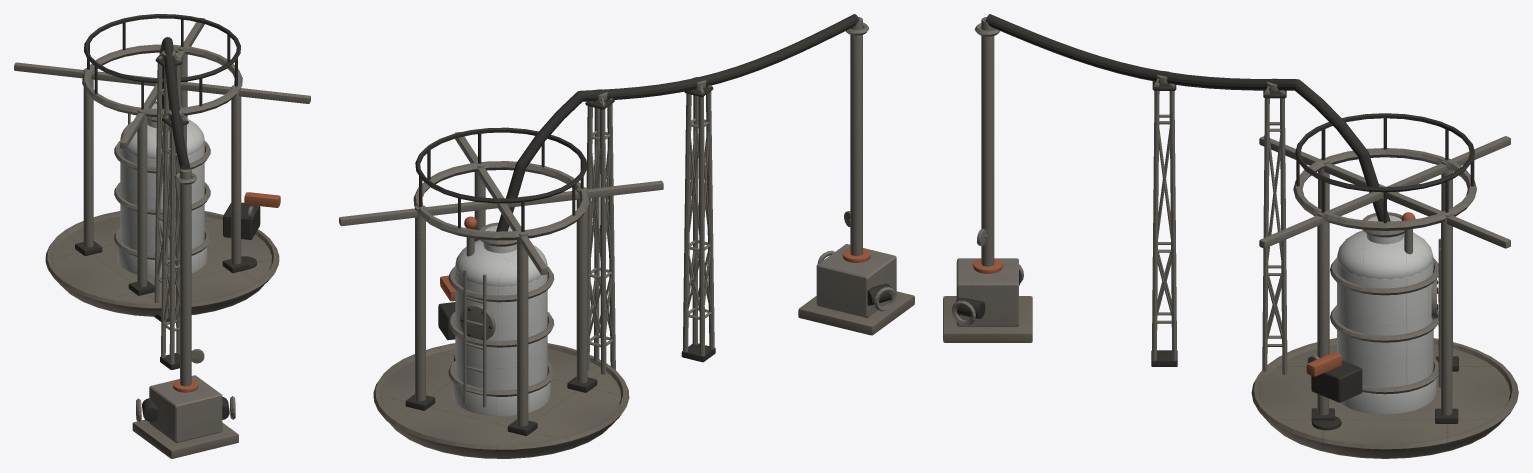
Rendered from lox_stand.glb.
3 renders of one model, left to right at view 1: azimuth 30°, elevation 25°; view 2: azimuth 150°, elevation 25°; view 3: azimuth 270°, elevation 25°, orthographic. The views are drawn at different scales.
Visible parts, largest first — view 1: bund, shell, mana_chest, bund_lip, downcomer, ring_beam, leg1, leg2, mana_pad, leg3, guard, transfer (+17 smaller); view 2: bund, shell, transfer, mana_chest, bund_lip, ring_beam, downcomer, dome_lo, leg3, mana_pad, leg2, guard (+18 smaller); view 3: bund, shell, transfer, bund_lip, ring_beam, mana_chest, dome_lo, downcomer, leg0, mana_pad, guard, leg1 (+13 smaller).
Boxes of the visible parts, x1,y1,x2,y2 form: bund: [53, 216, 271, 316]; shell: [120, 143, 204, 253]; mana_chest: [149, 375, 222, 442]; bund_lip: [45, 211, 279, 310]; downcomer: [180, 169, 191, 386]; ring_beam: [82, 44, 242, 116]; leg1: [231, 85, 241, 264]; leg2: [137, 107, 147, 287]; mana_pad: [132, 419, 238, 458]; leg3: [83, 68, 93, 247]; guard: [84, 14, 240, 82]; transfer: [159, 37, 190, 169]; bund: [381, 349, 620, 458]; shell: [455, 268, 547, 390]; transfer: [496, 14, 859, 231]; mana_chest: [816, 244, 896, 317]; bund_lip: [373, 343, 629, 451]; ring_beam: [413, 161, 589, 240]; downcomer: [850, 17, 862, 255]; dome_lo: [455, 240, 547, 286]; leg3: [517, 232, 528, 426]; mana_pad: [798, 291, 914, 335]; leg2: [576, 187, 587, 383]; guard: [415, 127, 587, 203]; bund: [1260, 344, 1510, 458]; shell: [1337, 259, 1433, 387]; transfer: [985, 14, 1390, 221]; bund_lip: [1251, 338, 1518, 451]; ring_beam: [1293, 148, 1476, 230]; mana_chest: [956, 258, 1018, 326]; dome_lo: [1337, 230, 1433, 279]; downcomer: [981, 17, 994, 266]; leg0: [1441, 211, 1452, 415]; mana_pad: [943, 296, 1032, 342]; guard: [1295, 113, 1474, 192]; leg1: [1317, 210, 1328, 415].
Size of the model in its own units: 4.98 by 4.39 by 7.39.
Materials: 6 (4 with a texture image).
